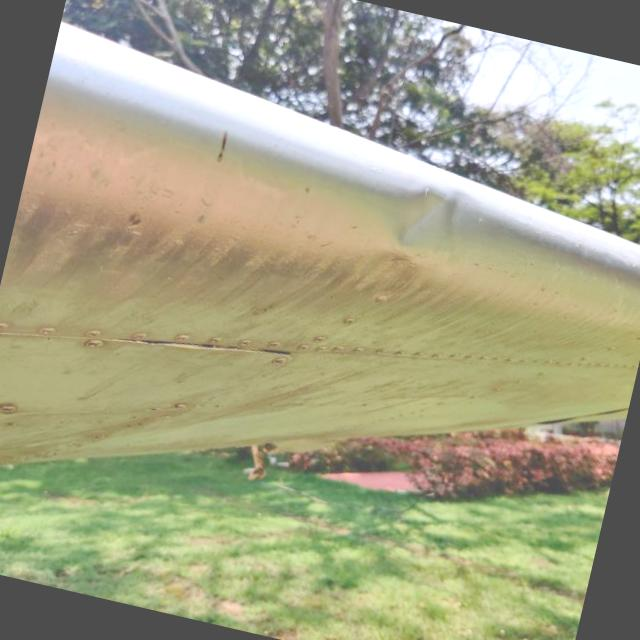dent: (358, 158, 492, 278)
